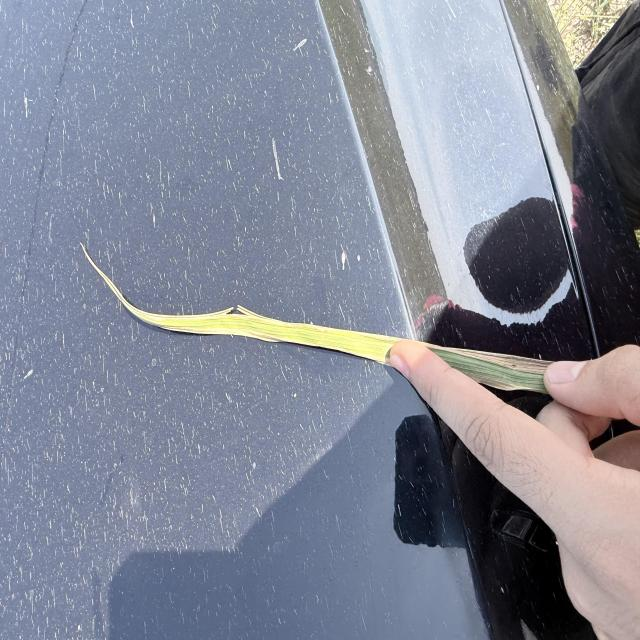Chay bia la: (81, 243, 403, 342), (416, 340, 555, 374), (278, 336, 394, 368), (165, 326, 284, 342), (466, 374, 535, 391)
